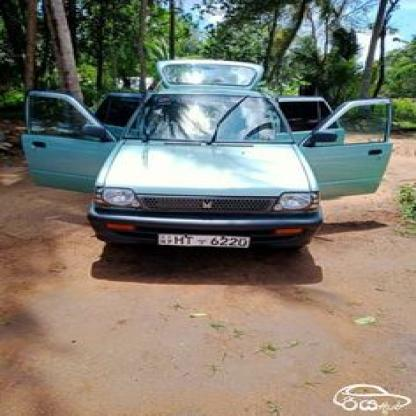car front: (16, 56, 404, 262)
number plate: (155, 228, 253, 253)
